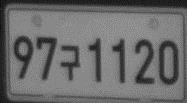0: (158, 40, 179, 85)
1: (110, 37, 127, 85), (87, 36, 103, 84)
2: (133, 38, 156, 85)
7: (35, 35, 57, 81)
9: (12, 34, 34, 80)
구: (58, 43, 81, 82)
